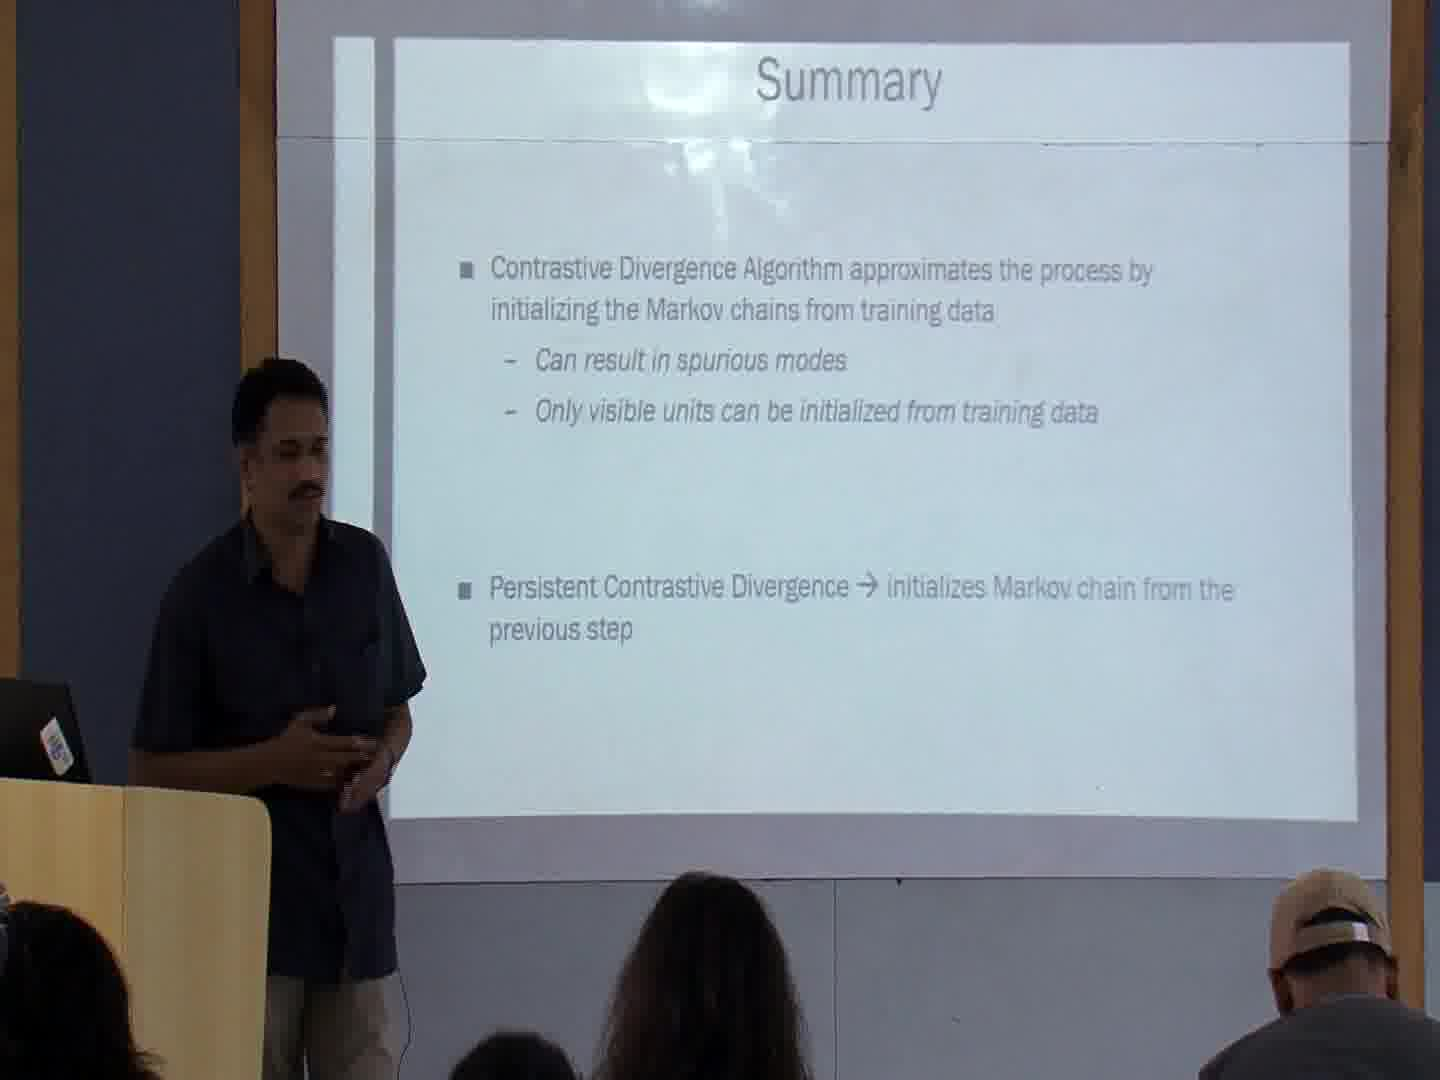slide: (334, 36, 1358, 819)
